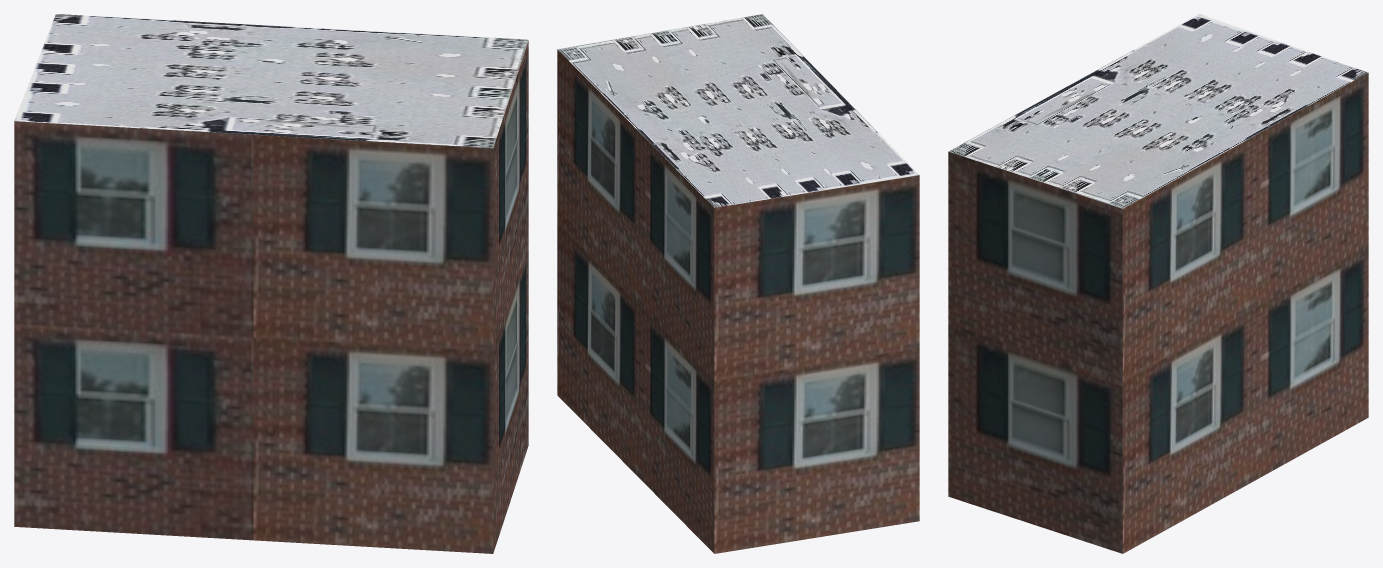
The model's file is ResTex__4839.fbx.
3 views of the same model, side by side, from view 1: azimuth 30°, elevation 25°; view 2: azimuth 150°, elevation 25°; view 3: azimuth 270°, elevation 25° (orthographic). The views are drawn at different scales.
Parts seen in each view (by area): view 1: CityEngineMaterial_14_m, CityEngineMaterial_4_m; view 2: CityEngineMaterial_14_m, CityEngineMaterial_4_m; view 3: CityEngineMaterial_14_m, CityEngineMaterial_4_m.
Boxes of the visible parts, x1,y1,x2,y2 form: CityEngineMaterial_14_m: [14, 40, 528, 553]; CityEngineMaterial_4_m: [14, 14, 528, 148]; CityEngineMaterial_14_m: [557, 49, 919, 553]; CityEngineMaterial_4_m: [558, 14, 918, 207]; CityEngineMaterial_14_m: [948, 72, 1368, 553]; CityEngineMaterial_4_m: [949, 14, 1367, 208].
Bounding box in the file's own units: 7.27 × 6 × 6.62.
Materials: 2 (2 with a texture image).
